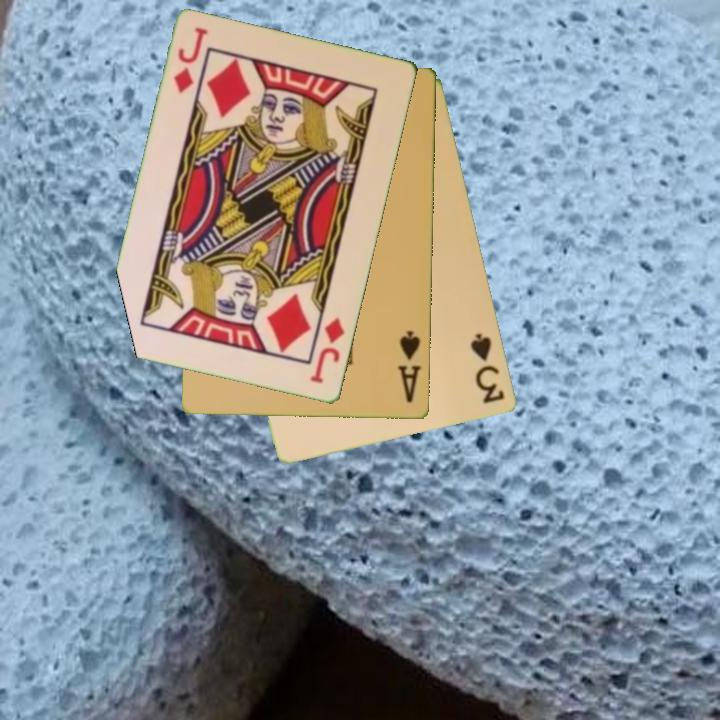3s: (467, 329, 508, 407)
As: (395, 328, 425, 406)
Jd: (307, 314, 348, 387), (170, 24, 211, 97)
